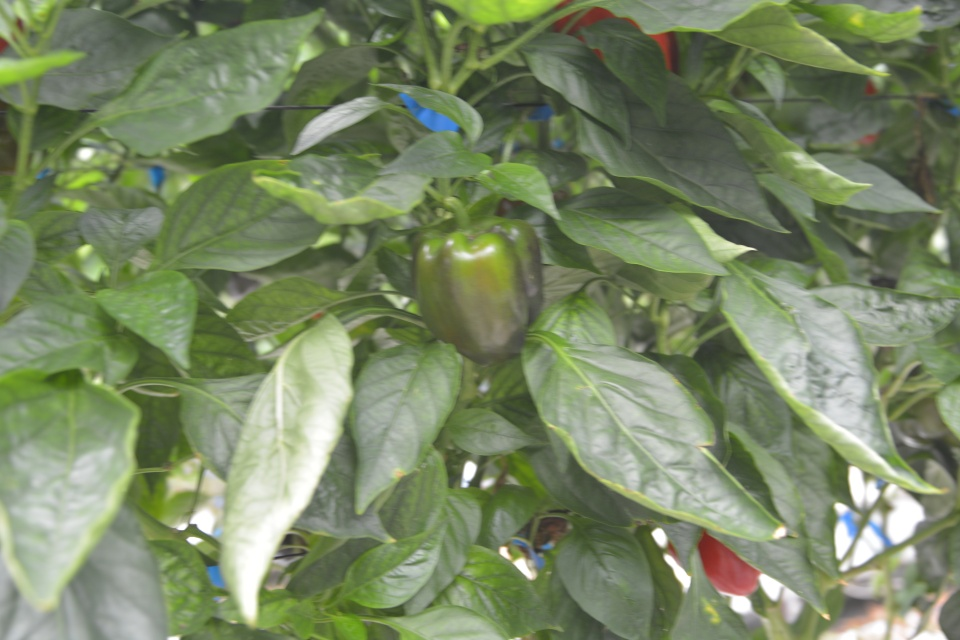fruit: (410, 214, 547, 368), (552, 5, 676, 78), (664, 525, 765, 598)
pedicle: (444, 224, 492, 235)
